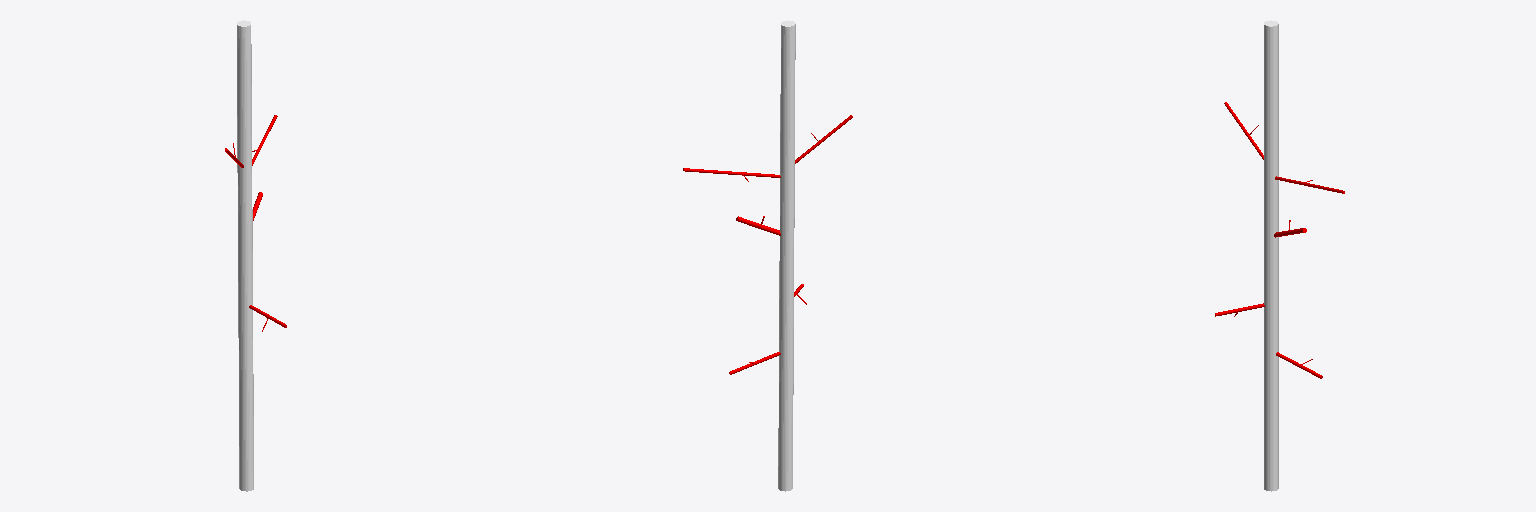
URDF robot description (tree_173.urdf):
<?xml version='1.0' encoding='UTF-8'?>
<robot name="tree_173.urdf">
  <link name="branch_0">
    <inertial>
      <origin xyz="0.0 0.0 0.0" rpy="0.0 -0.0 0.0"/>
      <mass value="0.1"/>
      <inertia ixx="0.001" ixy="0.0" ixz="0.0" iyy="0.001" iyz="0.0" izz="0.001"/>
    </inertial>
    <visual name="branch_0_visual">
      <geometry>
        <cylinder radius="0.1583647576874846" length="10.970380555323192"/>
      </geometry>
      <material name="branch_material"/>
      <origin xyz="-0.03445544517840276 0.00032976652325948555 5.485082050043089" rpy="6.775953245105824e-21 0.006281869559422087 3.1320221356879174"/>
    </visual>
    <collision name="branch_0_collision">
      <geometry>
        <cylinder radius="0.1583647576874846" length="10.970380555323192"/>
      </geometry>
      <origin xyz="-0.03445544517840276 0.00032976652325948555 5.485082050043089" rpy="6.775953245105824e-21 0.006281869559422087 3.1320221356879174"/>
    </collision>
  </link>
  <link name="branch_1">
    <inertial>
      <origin xyz="0.0 0.0 0.0" rpy="0.0 -0.0 0.0"/>
      <mass value="0.1"/>
      <inertia ixx="0.001" ixy="0.0" ixz="0.0" iyy="0.001" iyz="0.0" izz="0.001"/>
    </inertial>
    <visual name="branch_1_visual">
      <geometry>
        <cylinder radius="0.05353891902072602" length="1.1981485466221984"/>
      </geometry>
      <material name="semantic_material"/>
      <origin xyz="0.0 0.0 0.0" rpy="0.0 -0.0 0.0"/>
    </visual>
    <collision name="branch_1_collision">
      <geometry>
        <cylinder radius="0.05353891902072602" length="1.1981485466221984"/>
      </geometry>
      <origin xyz="0.0 0.0 0.0" rpy="0.0 -0.0 0.0"/>
    </collision>
  </link>
  <link name="branch_2">
    <inertial>
      <origin xyz="0.0 0.0 0.0" rpy="0.0 -0.0 0.0"/>
      <mass value="0.1"/>
      <inertia ixx="0.001" ixy="0.0" ixz="0.0" iyy="0.001" iyz="0.0" izz="0.001"/>
    </inertial>
    <visual name="branch_2_visual">
      <geometry>
        <cylinder radius="0.016049825621138047" length="0.2812249001370767"/>
      </geometry>
      <material name="semantic_material"/>
      <origin xyz="0.0 0.0 0.0" rpy="0.0 -0.0 0.0"/>
    </visual>
    <collision name="branch_2_collision">
      <geometry>
        <cylinder radius="0.016049825621138047" length="0.2812249001370767"/>
      </geometry>
      <origin xyz="0.0 0.0 0.0" rpy="0.0 -0.0 0.0"/>
    </collision>
  </link>
  <link name="branch_3">
    <inertial>
      <origin xyz="0.0 0.0 0.0" rpy="0.0 -0.0 0.0"/>
      <mass value="0.1"/>
      <inertia ixx="0.001" ixy="0.0" ixz="0.0" iyy="0.001" iyz="0.0" izz="0.001"/>
    </inertial>
    <visual name="branch_3_visual">
      <geometry>
        <cylinder radius="0.03544295422981381" length="2.3207348580119893"/>
      </geometry>
      <material name="semantic_material"/>
      <origin xyz="0.0 0.0 0.0" rpy="0.0 -0.0 0.0"/>
    </visual>
    <collision name="branch_3_collision">
      <geometry>
        <cylinder radius="0.03544295422981381" length="2.3207348580119893"/>
      </geometry>
      <origin xyz="0.0 0.0 0.0" rpy="0.0 -0.0 0.0"/>
    </collision>
  </link>
  <link name="branch_4">
    <inertial>
      <origin xyz="0.0 0.0 0.0" rpy="0.0 -0.0 0.0"/>
      <mass value="0.1"/>
      <inertia ixx="0.001" ixy="0.0" ixz="0.0" iyy="0.001" iyz="0.0" izz="0.001"/>
    </inertial>
    <visual name="branch_4_visual">
      <geometry>
        <cylinder radius="0.01194106468894594" length="0.35398831421336185"/>
      </geometry>
      <material name="semantic_material"/>
      <origin xyz="0.0 0.0 0.0" rpy="0.0 -0.0 0.0"/>
    </visual>
    <collision name="branch_4_collision">
      <geometry>
        <cylinder radius="0.01194106468894594" length="0.35398831421336185"/>
      </geometry>
      <origin xyz="0.0 0.0 0.0" rpy="0.0 -0.0 0.0"/>
    </collision>
  </link>
  <link name="branch_5">
    <inertial>
      <origin xyz="0.0 0.0 0.0" rpy="0.0 -0.0 0.0"/>
      <mass value="0.1"/>
      <inertia ixx="0.001" ixy="0.0" ixz="0.0" iyy="0.001" iyz="0.0" izz="0.001"/>
    </inertial>
    <visual name="branch_5_visual">
      <geometry>
        <cylinder radius="0.039134689029304566" length="1.2440957314511243"/>
      </geometry>
      <material name="semantic_material"/>
      <origin xyz="0.0 0.0 0.0" rpy="0.0 -0.0 0.0"/>
    </visual>
    <collision name="branch_5_collision">
      <geometry>
        <cylinder radius="0.039134689029304566" length="1.2440957314511243"/>
      </geometry>
      <origin xyz="0.0 0.0 0.0" rpy="0.0 -0.0 0.0"/>
    </collision>
  </link>
  <link name="branch_6">
    <inertial>
      <origin xyz="0.0 0.0 0.0" rpy="0.0 -0.0 0.0"/>
      <mass value="0.1"/>
      <inertia ixx="0.001" ixy="0.0" ixz="0.0" iyy="0.001" iyz="0.0" izz="0.001"/>
    </inertial>
    <visual name="branch_6_visual">
      <geometry>
        <cylinder radius="0.012772399810753341" length="0.3476872024567738"/>
      </geometry>
      <material name="semantic_material"/>
      <origin xyz="0.0 0.0 0.0" rpy="0.0 -0.0 0.0"/>
    </visual>
    <collision name="branch_6_collision">
      <geometry>
        <cylinder radius="0.012772399810753341" length="0.3476872024567738"/>
      </geometry>
      <origin xyz="0.0 0.0 0.0" rpy="0.0 -0.0 0.0"/>
    </collision>
  </link>
  <link name="branch_7">
    <inertial>
      <origin xyz="0.0 0.0 0.0" rpy="0.0 -0.0 0.0"/>
      <mass value="0.1"/>
      <inertia ixx="0.001" ixy="0.0" ixz="0.0" iyy="0.001" iyz="0.0" izz="0.001"/>
    </inertial>
    <visual name="branch_7_visual">
      <geometry>
        <cylinder radius="0.03917853420164008" length="1.36184260431337"/>
      </geometry>
      <material name="semantic_material"/>
      <origin xyz="0.0 0.0 0.0" rpy="0.0 -0.0 0.0"/>
    </visual>
    <collision name="branch_7_collision">
      <geometry>
        <cylinder radius="0.03917853420164008" length="1.36184260431337"/>
      </geometry>
      <origin xyz="0.0 0.0 0.0" rpy="0.0 -0.0 0.0"/>
    </collision>
  </link>
  <link name="branch_8">
    <inertial>
      <origin xyz="0.0 0.0 0.0" rpy="0.0 -0.0 0.0"/>
      <mass value="0.1"/>
      <inertia ixx="0.001" ixy="0.0" ixz="0.0" iyy="0.001" iyz="0.0" izz="0.001"/>
    </inertial>
    <visual name="branch_8_visual">
      <geometry>
        <cylinder radius="0.01" length="0.3202148424981211"/>
      </geometry>
      <material name="semantic_material"/>
      <origin xyz="0.0 0.0 0.0" rpy="0.0 -0.0 0.0"/>
    </visual>
    <collision name="branch_8_collision">
      <geometry>
        <cylinder radius="0.01" length="0.3202148424981211"/>
      </geometry>
      <origin xyz="0.0 0.0 0.0" rpy="0.0 -0.0 0.0"/>
    </collision>
  </link>
  <link name="branch_9">
    <inertial>
      <origin xyz="0.0 0.0 0.0" rpy="0.0 -0.0 0.0"/>
      <mass value="0.1"/>
      <inertia ixx="0.001" ixy="0.0" ixz="0.0" iyy="0.001" iyz="0.0" izz="0.001"/>
    </inertial>
    <visual name="branch_9_visual">
      <geometry>
        <cylinder radius="0.03564822756948018" length="1.7825735455515832"/>
      </geometry>
      <material name="semantic_material"/>
      <origin xyz="0.0 0.0 0.0" rpy="0.0 -0.0 0.0"/>
    </visual>
    <collision name="branch_9_collision">
      <geometry>
        <cylinder radius="0.03564822756948018" length="1.7825735455515832"/>
      </geometry>
      <origin xyz="0.0 0.0 0.0" rpy="0.0 -0.0 0.0"/>
    </collision>
  </link>
  <link name="branch_10">
    <inertial>
      <origin xyz="0.0 0.0 0.0" rpy="0.0 -0.0 0.0"/>
      <mass value="0.1"/>
      <inertia ixx="0.001" ixy="0.0" ixz="0.0" iyy="0.001" iyz="0.0" izz="0.001"/>
    </inertial>
    <visual name="branch_10_visual">
      <geometry>
        <cylinder radius="0.01" length="0.368437504408614"/>
      </geometry>
      <material name="semantic_material"/>
      <origin xyz="0.0 0.0 0.0" rpy="0.0 -0.0 0.0"/>
    </visual>
    <collision name="branch_10_collision">
      <geometry>
        <cylinder radius="0.01" length="0.368437504408614"/>
      </geometry>
      <origin xyz="0.0 0.0 0.0" rpy="0.0 -0.0 0.0"/>
    </collision>
  </link>
  <joint name="joint_0_1" type="fixed">
    <parent link="branch_0"/>
    <child link="branch_1"/>
    <axis xyz="1. 0. 0."/>
    <origin xyz="0.36621285818474425 0.3634366510535151 6.216921945730806" rpy="-0.010022643396431868 1.1344011948887438 0.7214421111768077"/>
  </joint>
  <joint name="joint_0_3" type="fixed">
    <parent link="branch_0"/>
    <child link="branch_3"/>
    <axis xyz="1. 0. 0."/>
    <origin xyz="0.7870391164922265 0.7810857663127208 7.556349353361472" rpy="-0.024305785891915812 1.3914612718147832 0.7281386518319579"/>
  </joint>
  <joint name="joint_0_5" type="fixed">
    <parent link="branch_0"/>
    <child link="branch_5"/>
    <axis xyz="1. 0. 0."/>
    <origin xyz="0.12476727828770155 -0.5998633729683939 4.296899679114543" rpy="3.079098351452117 1.4733683601193215 1.756285325753975"/>
  </joint>
  <joint name="joint_0_7" type="fixed">
    <parent link="branch_0"/>
    <child link="branch_7"/>
    <axis xyz="1. 0. 0."/>
    <origin xyz="0.36351290482586673 0.5453581534812476 3.112419596208696" rpy="-3.1160703711635125 1.366624938354344 -2.158305786277254"/>
  </joint>
  <joint name="joint_0_9" type="fixed">
    <parent link="branch_0"/>
    <child link="branch_9"/>
    <axis xyz="1. 0. 0."/>
    <origin xyz="-0.5612723544291465 -0.4909022174266205 8.087735129774215" rpy="0.007295246375224855 0.9234189971235335 -2.3694170701238844"/>
  </joint>
  <joint name="joint_1_2" type="fixed">
    <parent link="branch_0"/>
    <child link="branch_2"/>
    <axis xyz="1. 0. 0."/>
    <origin xyz="0.34401770263964276 0.3926231284229551 6.364084908895041" rpy="0.2501261110586436 0.21858712753122042 -2.4701402404254784"/>
  </joint>
  <joint name="joint_3_4" type="fixed">
    <parent link="branch_0"/>
    <child link="branch_4"/>
    <axis xyz="1. 0. 0."/>
    <origin xyz="0.5329734428337829 0.7784132338263706 7.503890748118083" rpy="1.7131989758566484 0.15192496796058688 -2.1672709387986844"/>
  </joint>
  <joint name="joint_5_6" type="fixed">
    <parent link="branch_0"/>
    <child link="branch_6"/>
    <axis xyz="1. 0. 0."/>
    <origin xyz="0.03921132961204884 -0.7369063994714083 4.160630645050237" rpy="-2.3936319136177335 0.040590170638648795 1.9471942603488996"/>
  </joint>
  <joint name="joint_7_8" type="fixed">
    <parent link="branch_0"/>
    <child link="branch_8"/>
    <axis xyz="1. 0. 0."/>
    <origin xyz="0.3924320716197117 0.7541039778562021 3.168511367935043" rpy="0.9958926419923197 -0.5719965855841758 -2.6727427707384264"/>
  </joint>
  <joint name="joint_9_10" type="fixed">
    <parent link="branch_0"/>
    <child link="branch_10"/>
    <axis xyz="1. 0. 0."/>
    <origin xyz="-0.5224923965520867 -0.3761405979638627 8.226277830904648" rpy="-0.29999096637379913 0.6032084574385688 0.7801711242913382"/>
  </joint>
  <material name="branch_material">
    <color rgba="1. 1. 1. 1."/>
  </material>
  <material name="semantic_material">
    <color rgba="1. 0. 0. 1."/>
  </material>
</robot>

--- Facts derived from the render (not from the file) ---
3 views of the same robot in one strip: view 1: azimuth 30°, elevation 25°; view 2: azimuth 150°, elevation 25°; view 3: azimuth 270°, elevation 25° (orthographic).
Robot: tree_173.urdf — 11 links, 10 joints (10 fixed); root link branch_0; default pose: all joints at 0.
Links seen in each view (by area): view 1: branch_0; view 2: branch_0; view 3: branch_0.
Boxes of the visible links, <box> form: branch_0: <box>237,20,253,491</box>; branch_0: <box>778,20,795,491</box>; branch_0: <box>1264,20,1278,491</box>.
Bounding box of the posed robot: 2.75 × 2.8 × 10.97 m (x, y, z).
Geometry: primitives only (box / cylinder / sphere), no mesh files.
